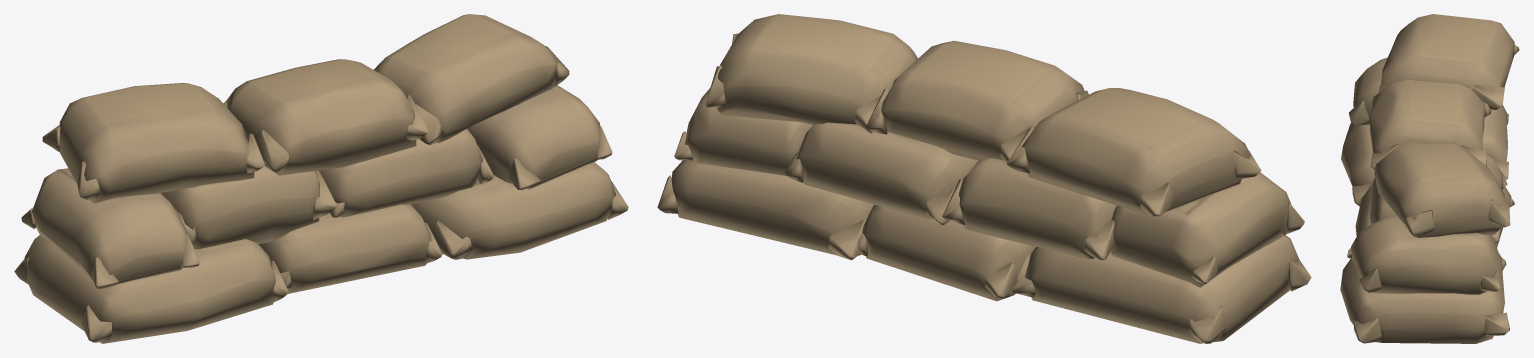
File: sandbag.glb
3 views of the same model, side by side, from view 1: azimuth 30°, elevation 25°; view 2: azimuth 150°, elevation 25°; view 3: azimuth 270°, elevation 25° (orthographic). The views are drawn at different scales.
Size of the model in its own units: 0.9502 by 0.3071 by 0.3354.
Materials: 1 (1 with a texture image).
